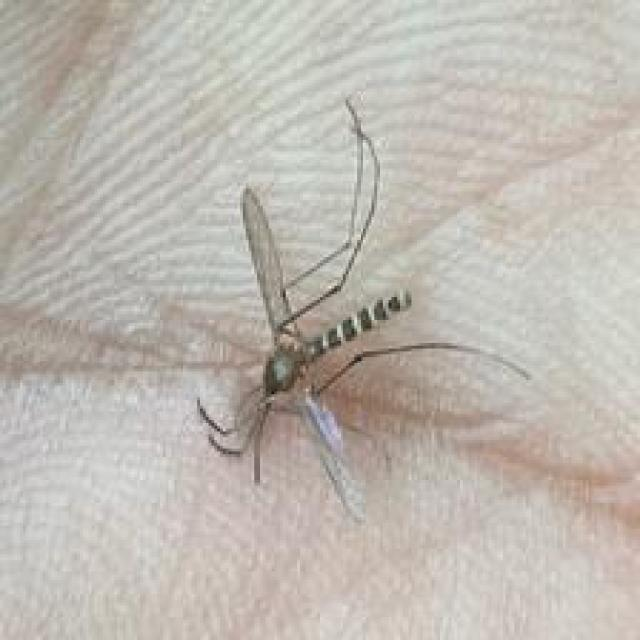Culex: (192, 93, 532, 524)
